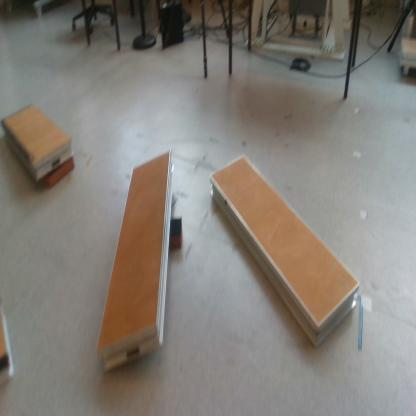Stairs: (211, 157, 359, 352), (97, 151, 175, 378), (2, 105, 76, 185), (1, 300, 13, 389)
